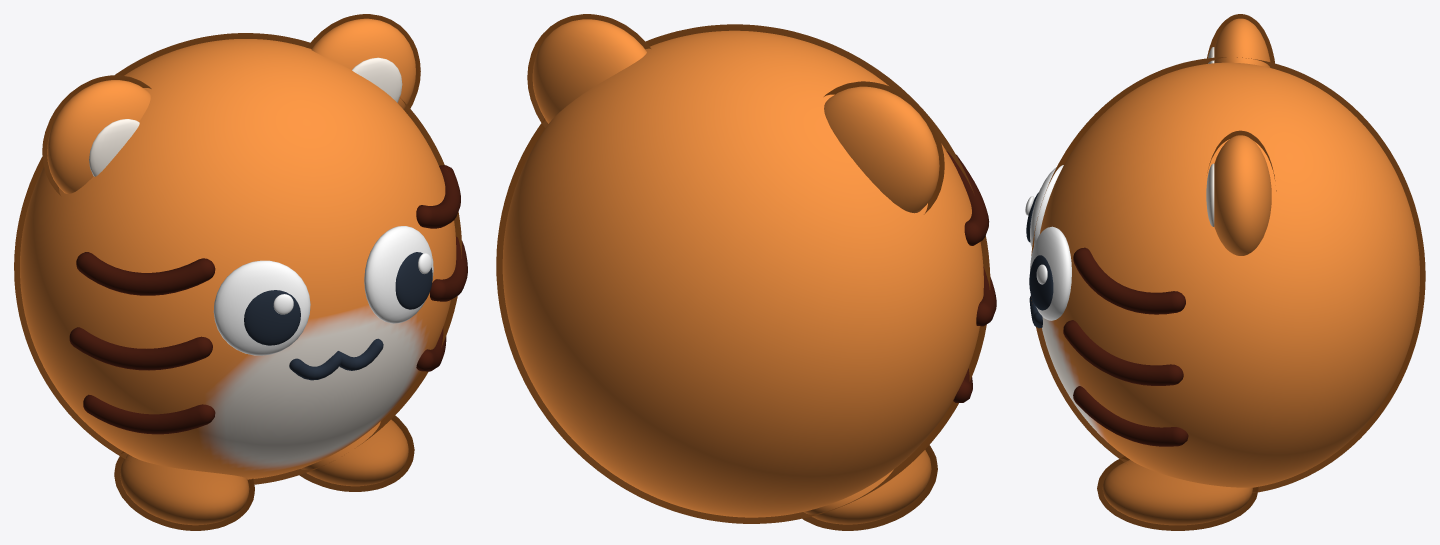
The model's file is tiger.glb.
3 views of the same model, side by side, from view 1: azimuth 30°, elevation 25°; view 2: azimuth 150°, elevation 25°; view 3: azimuth 270°, elevation 25° (orthographic). The views are drawn at different scales.
Parts seen in each view (by area): view 1: body, foot, ear, foot.001, ear.001, eye_white, eye_white.001, stripe, stripe.002, stripe.004, eye_pupil, eye_pupil.001 (+6 smaller); view 2: body, ear, ear.001, foot, stripe, stripe.002; view 3: body, foot.001, ear.001, stripe.001, stripe.003, ear, stripe.005, eye_white.001, eye_pupil.001, eye_white, ear_inner.001.
Boxes of the visible parts, x1=… form: body: x1=14, y1=33, x2=461, y2=484; foot: x1=114, y1=451, x2=254, y2=530; ear: x1=42, y1=75, x2=151, y2=195; foot.001: x1=299, y1=415, x2=414, y2=491; ear.001: x1=307, y1=14, x2=420, y2=113; eye_white: x1=213, y1=260, x2=310, y2=355; eye_white.001: x1=364, y1=226, x2=433, y2=323; stripe: x1=76, y1=252, x2=215, y2=295; stripe.002: x1=69, y1=327, x2=212, y2=370; stripe.004: x1=83, y1=394, x2=215, y2=434; eye_pupil: x1=244, y1=290, x2=300, y2=345; eye_pupil.001: x1=395, y1=252, x2=432, y2=309; body: x1=496, y1=24, x2=990, y2=523; ear: x1=824, y1=81, x2=944, y2=214; ear.001: x1=527, y1=14, x2=650, y2=127; foot: x1=802, y1=445, x2=937, y2=530; stripe: x1=946, y1=151, x2=989, y2=245; stripe.002: x1=976, y1=267, x2=996, y2=326; body: x1=1031, y1=57, x2=1425, y2=493; foot.001: x1=1097, y1=456, x2=1258, y2=530; ear.001: x1=1207, y1=130, x2=1276, y2=255; stripe.001: x1=1073, y1=247, x2=1185, y2=314; stripe.003: x1=1063, y1=320, x2=1183, y2=385; ear: x1=1207, y1=14, x2=1274, y2=67; stripe.005: x1=1073, y1=386, x2=1188, y2=446; eye_white.001: x1=1030, y1=226, x2=1071, y2=320; eye_pupil.001: x1=1029, y1=255, x2=1053, y2=310; eye_white: x1=1030, y1=165, x2=1063, y2=247; ear_inner.001: x1=1206, y1=163, x2=1214, y2=226.
Size of the model in its own units: 1.74 by 1.79 by 1.59.
